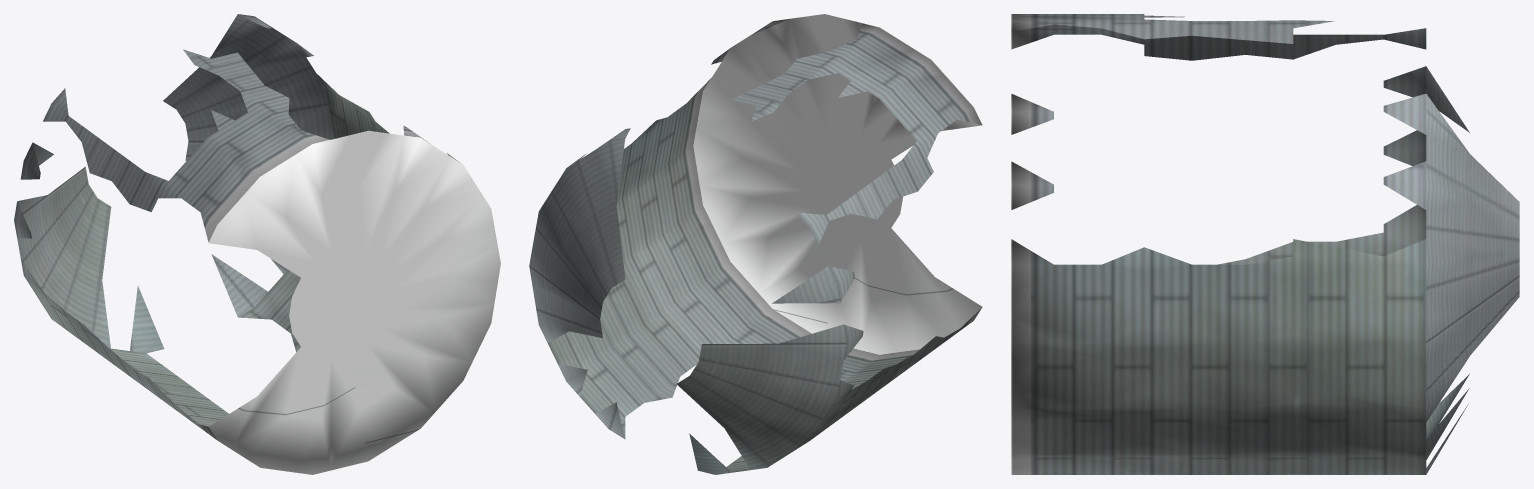
File: siloDestruido.glb
3 renders of one model, left to right at view 1: azimuth 30°, elevation 25°; view 2: azimuth 150°, elevation 25°; view 3: azimuth 270°, elevation 25°, orthographic. The views are drawn at different scales.
Parts seen in each view (by area): view 1: kme6995ccpjc; view 2: kme6995ccpjc; view 3: kme6995ccpjc.
Part boxes in pixels (left/top/right/bottom): kme6995ccpjc: left=14, top=14, right=500, bottom=474; kme6995ccpjc: left=529, top=14, right=982, bottom=474; kme6995ccpjc: left=1011, top=14, right=1519, bottom=474.
Bounding box in the file's own units: 800 × 788 × 879.
Materials: 1 (1 with a texture image).
